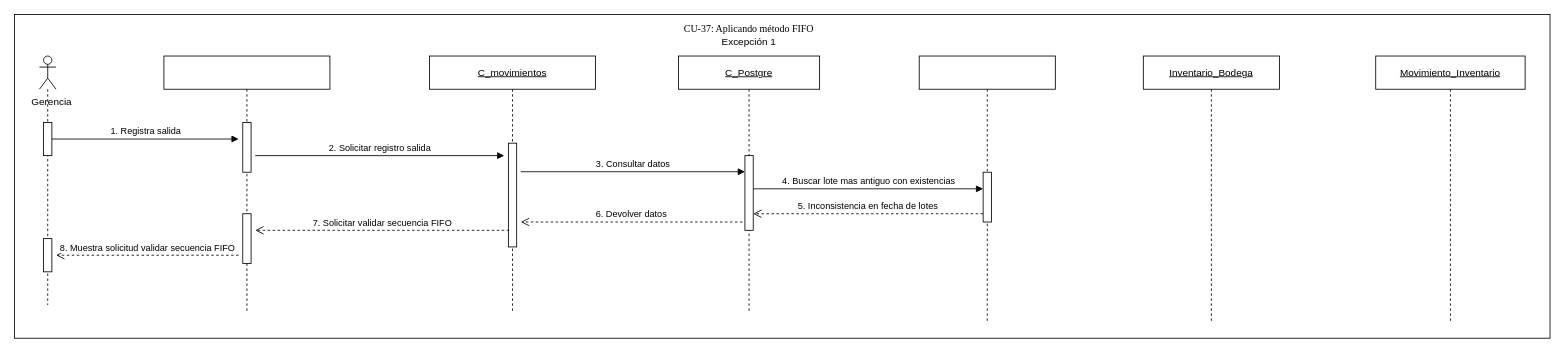
Some shapes in this 1565 by 353 pixel diagram are drawn without their labels. The box of each missing label's shape, as (x1, y1, x2, y2) in pixels:
Lote: (918, 55, 1055, 322)
V_Salida Material: (163, 55, 330, 313)
